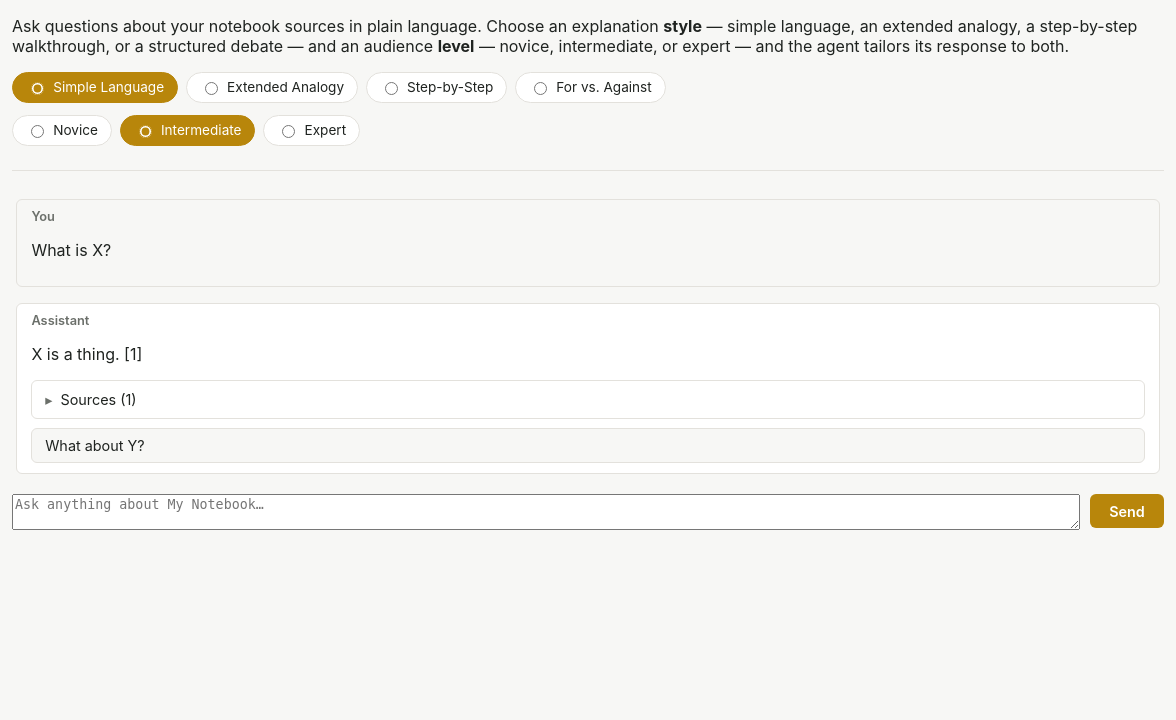
Test case: ExplainTab › renders previously-saved history, including the last assistant turn's citations and follow-ups
Expected: the text "X is a thing. [1]" is shown, [31, 344, 142, 364]
Expected: the text "You" is shown, [31, 209, 55, 224]
Click the button "▸ Sources (1)".
click(93, 399)  # box [32, 381, 1144, 418]
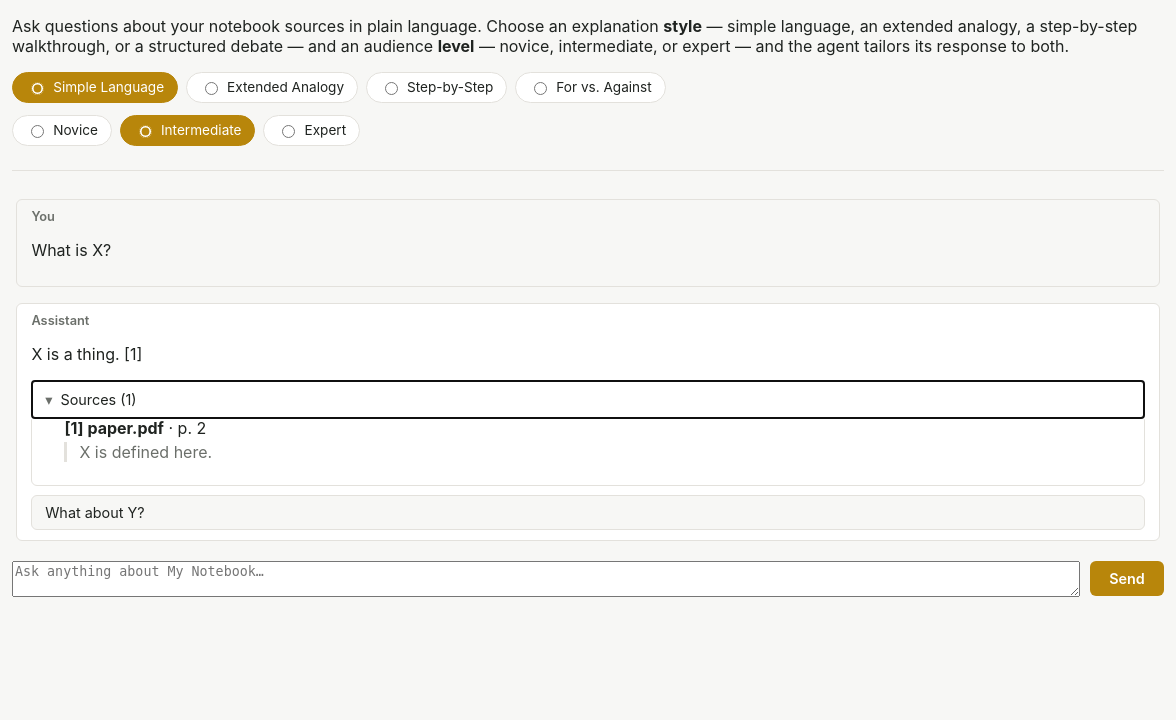
Now the text "X is defined here." is shown, box [64, 442, 1129, 462]
